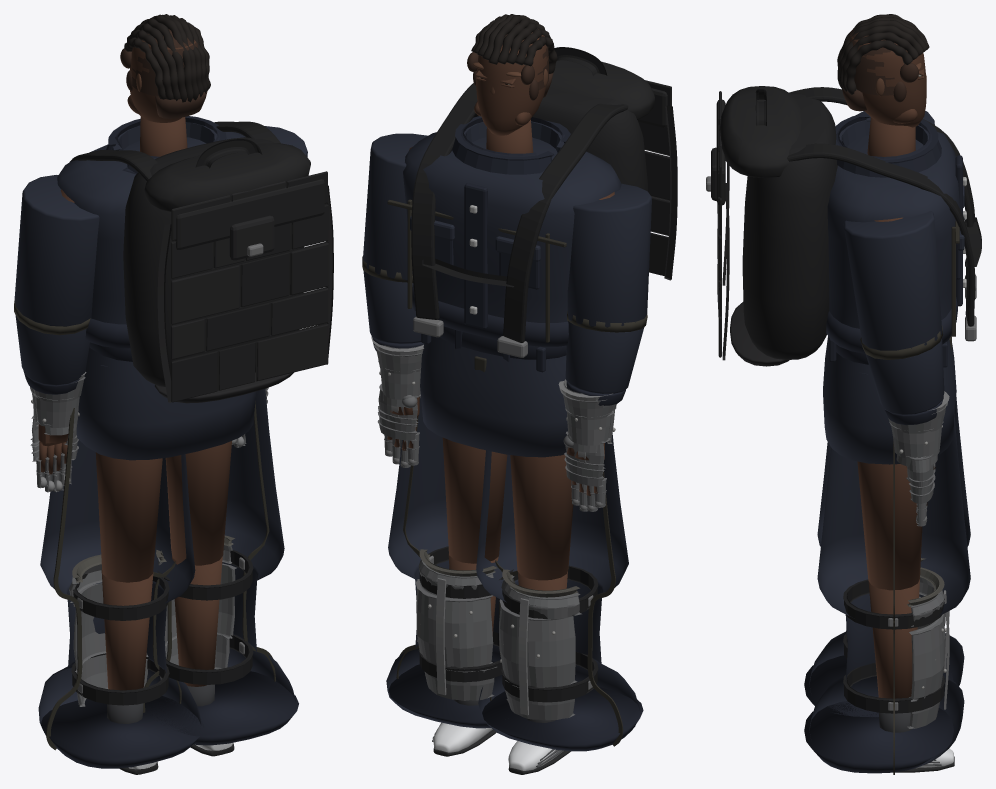
Rendered from player-character-blockout.glb.
The picture shows the model from 3 angles, left to right: view 1: azimuth 30°, elevation 25°; view 2: azimuth 150°, elevation 25°; view 3: azimuth 270°, elevation 25°; orthographic projection.
Parts seen in each view (by area): view 1: PC_Jeans_Seat, PC_Jeans_Leg_L, PC_Jacket_SleeveUpper_L, PC_Bag_Body, PC_Jeans_Leg_R, PC_Jeans_Hem_L, PC_Thigh_L, PC_Jacket_Body, PC_Bag_Flap, PC_Jeans_Hem_R, PC_Thigh_R, PC_Bag_FlapSkirt (+48 smaller); view 2: PC_Jacket_Body, PC_Jeans_Seat, PC_Jeans_Leg_L, PC_Jacket_SleeveUpper_L, PC_Jeans_Leg_R, PC_Thigh_L, PC_Thigh_R, PC_Bag_Strap_L, PC_Jacket_SleeveUpper_R, PC_Jeans_Hem_L, PC_Bag_Strap_R, PC_Bag_Body (+43 smaller); view 3: PC_Bag_Body, PC_Jeans_Leg_R, PC_Jacket_SleeveUpper_R, PC_Jacket_Body, PC_Jeans_Seat, PC_Jeans_Hem_R, PC_Thigh_R, PC_Bag_Flap, PC_Jacket_SleeveLower_R, PC_Shin_R, PC_Bag_Strap_R, PC_Head (+30 smaller).
Boxes of the visible parts, box(x1,y1,x2,y2) form: PC_Jeans_Seat: box(76, 347, 256, 460); PC_Jeans_Leg_L: box(38, 440, 201, 749); PC_Jacket_SleeveUpper_L: box(14, 175, 99, 326); PC_Bag_Body: box(123, 137, 303, 386); PC_Jeans_Leg_R: box(214, 389, 295, 701); PC_Jeans_Hem_L: box(41, 696, 204, 768); PC_Thigh_L: box(95, 452, 162, 582); PC_Jacket_Body: box(57, 132, 245, 324); PC_Bag_Flap: box(144, 143, 310, 211); PC_Jeans_Hem_R: box(145, 671, 298, 745); PC_Thigh_R: box(165, 441, 231, 565); PC_Bag_FlapSkirt: box(174, 179, 324, 249); PC_Jacket_Body: box(403, 132, 621, 322); PC_Jeans_Seat: box(420, 336, 567, 457); PC_Jeans_Leg_L: box(476, 433, 640, 751); PC_Jacket_SleeveUpper_L: box(567, 183, 651, 327); PC_Jeans_Leg_R: box(386, 396, 500, 728); PC_Thigh_L: box(510, 454, 573, 580); PC_Thigh_R: box(442, 437, 507, 563); PC_Bag_Strap_L: box(503, 103, 628, 342); PC_Jacket_SleeveUpper_R: box(362, 133, 427, 280); PC_Jeans_Hem_L: box(482, 682, 643, 750); PC_Bag_Strap_R: box(411, 83, 477, 319); PC_Bag_Body: box(473, 88, 647, 191); PC_Bag_Body: box(742, 93, 837, 359); PC_Jeans_Leg_R: box(809, 406, 970, 769); PC_Jacket_SleeveUpper_R: box(843, 211, 942, 350); PC_Jacket_Body: box(827, 132, 960, 328); PC_Jeans_Seat: box(823, 336, 956, 464); PC_Jeans_Hem_R: box(804, 703, 953, 773); PC_Thigh_R: box(857, 461, 922, 590); PC_Bag_Flap: box(719, 86, 801, 177); PC_Jacket_SleeveLower_R: box(865, 338, 944, 414); PC_Shin_R: box(868, 579, 919, 698); PC_Bag_Strap_R: box(787, 143, 975, 326); PC_Head: box(850, 30, 926, 127).
Bounding box in the file's own units: 0.719 × 1.8 × 0.6189.
